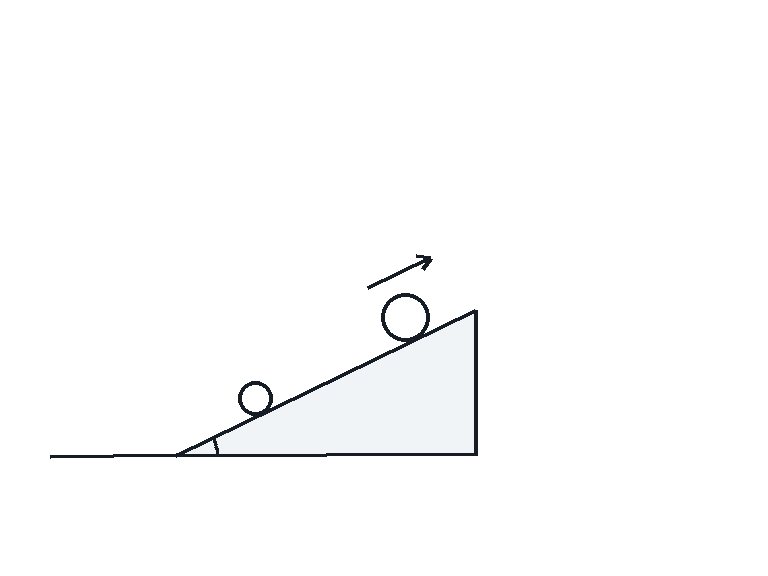ball: (379, 291, 431, 343), (236, 379, 274, 417)
ramp: (175, 307, 477, 457)
